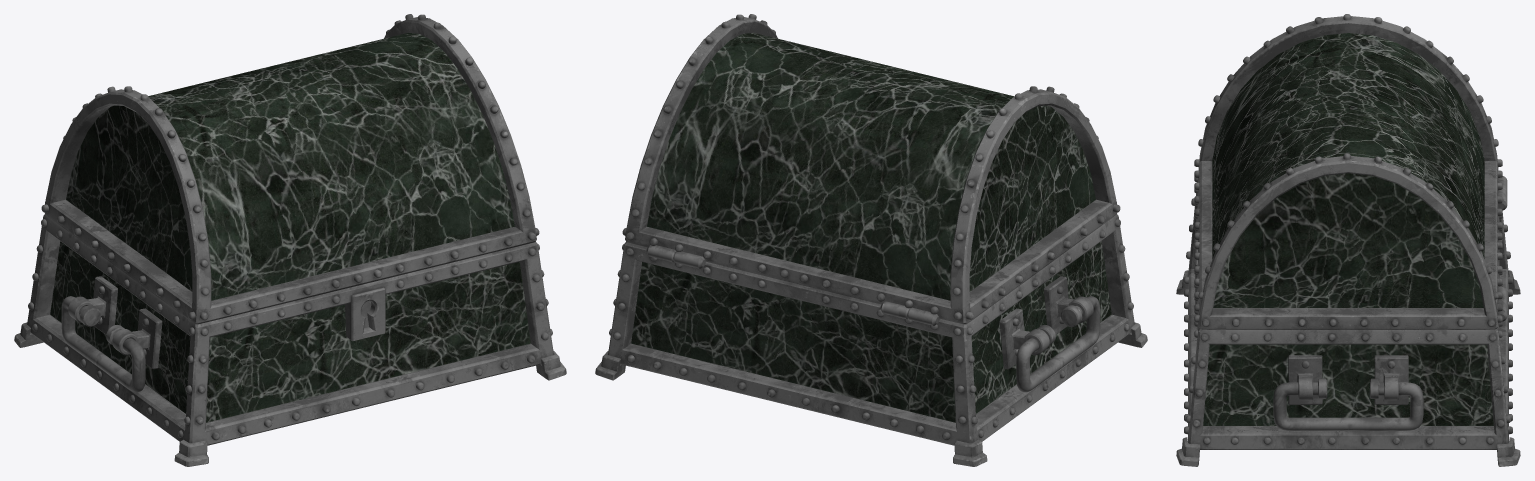
File: marble chest.fbx
3 views of the same model, side by side, from view 1: azimuth 30°, elevation 25°; view 2: azimuth 150°, elevation 25°; view 3: azimuth 270°, elevation 25° (orthographic). The views are drawn at different scales.
Visible parts, largest first — view 1: Cylinder; view 2: Cylinder; view 3: Cylinder.
Boxes of the visible parts, box(x1,y1,x2,y2) form: Cylinder: box(14, 14, 566, 466); Cylinder: box(595, 14, 1147, 466); Cylinder: box(1176, 14, 1520, 466).
Size of the model in its own units: 299 by 216 by 232.
